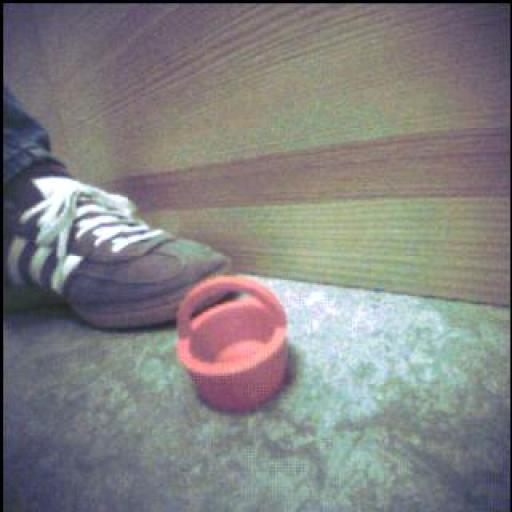Bucket: (177, 278, 289, 412)
